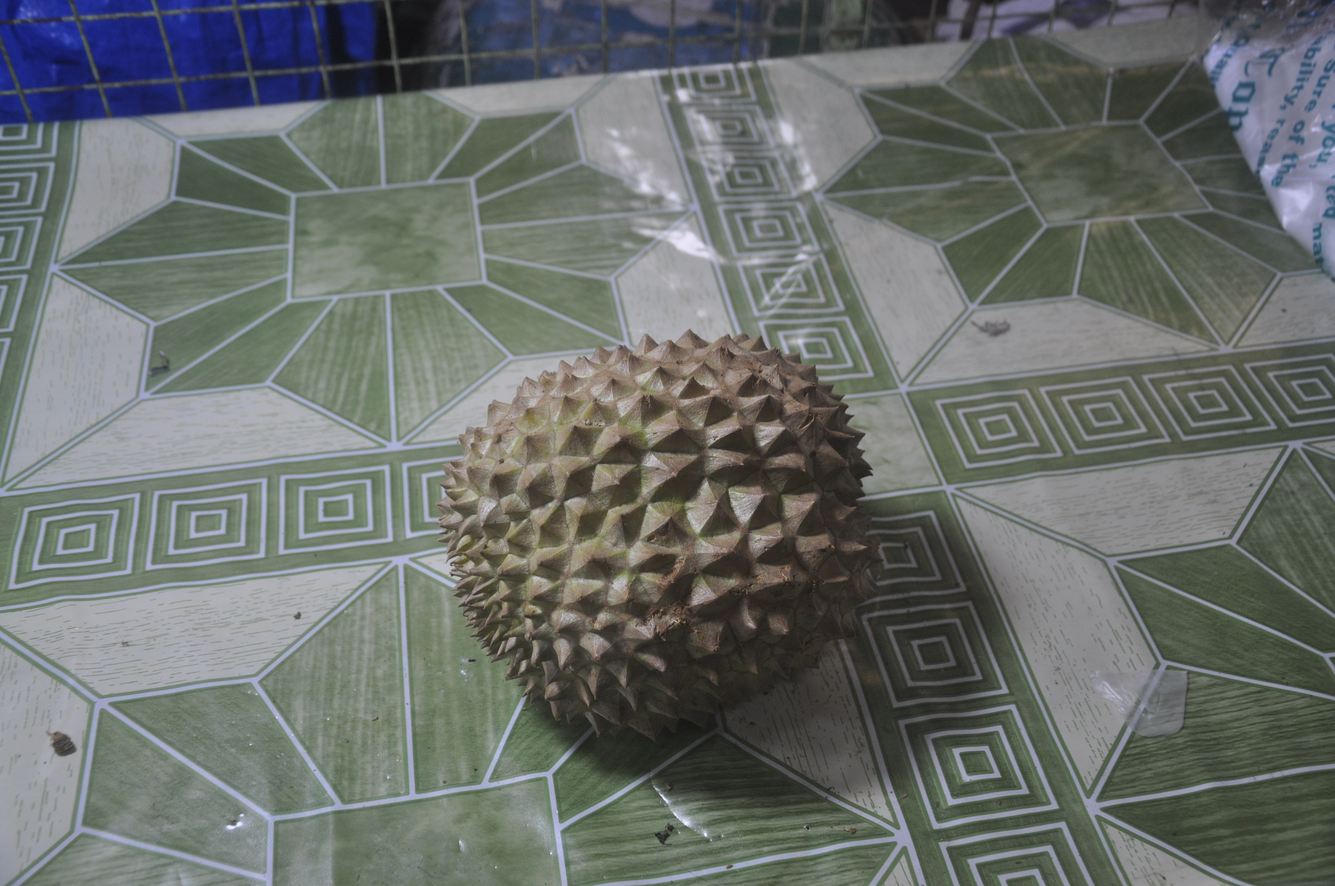mature: (438, 332, 873, 738)
